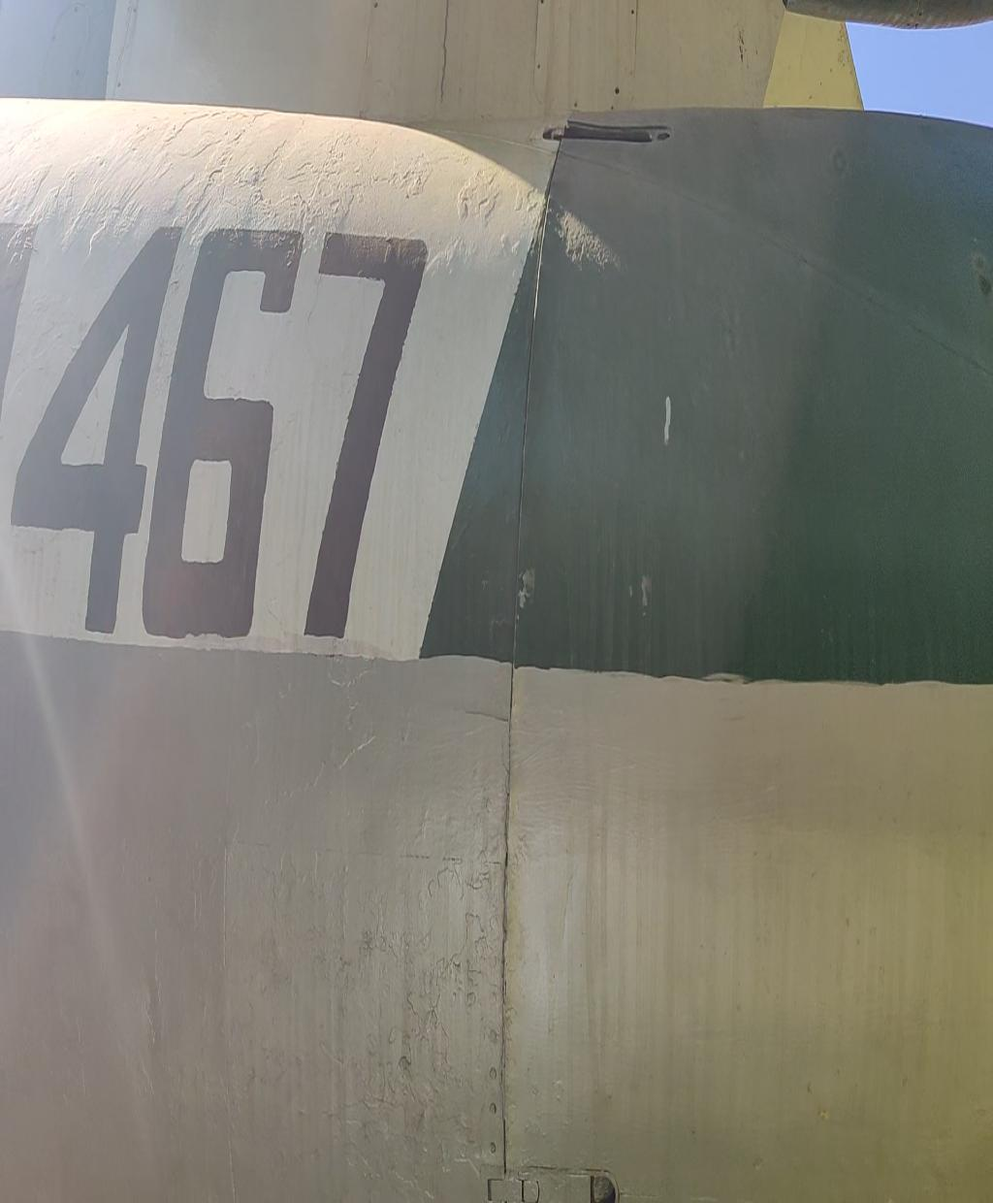crack: (434, 0, 455, 109)
